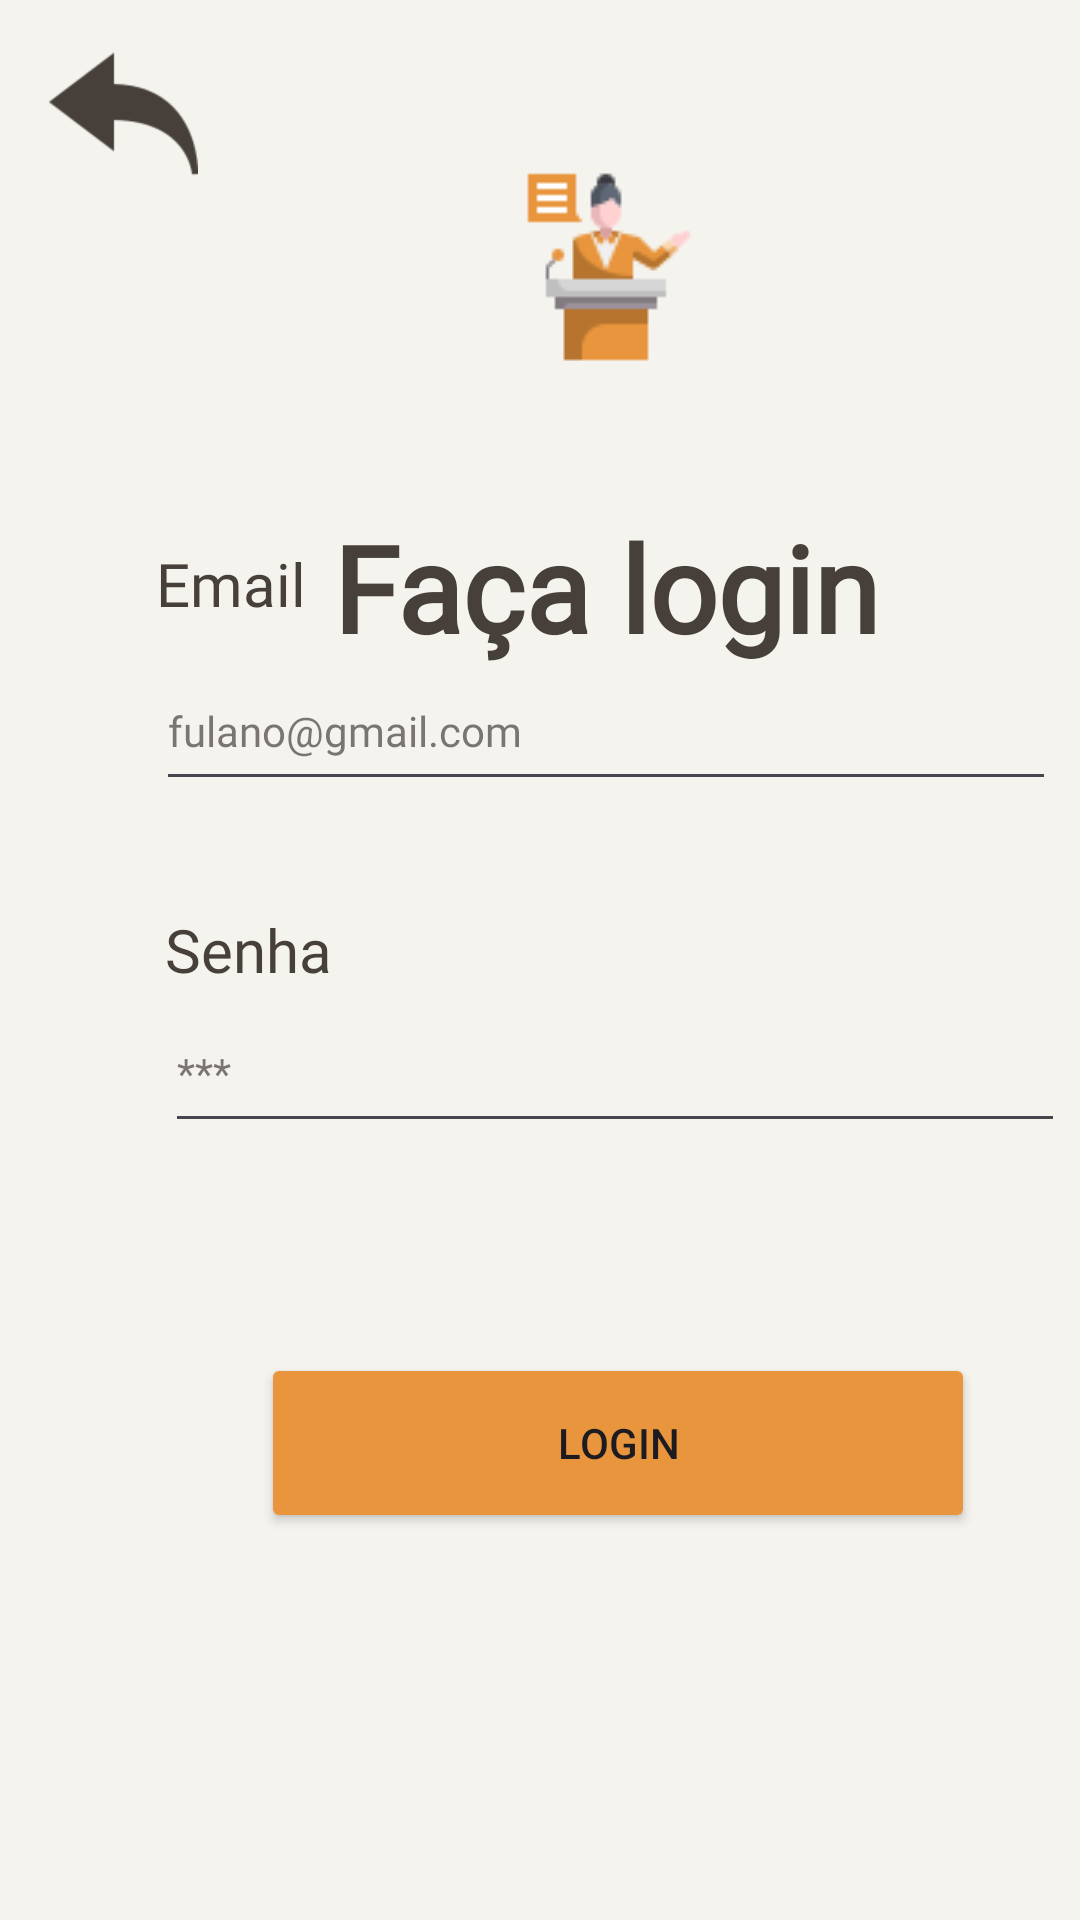

Point at icon controls on the screen. Image size 1080 x 1920, points as (x=x, y=y).
seta marrom: (x=123, y=113)
